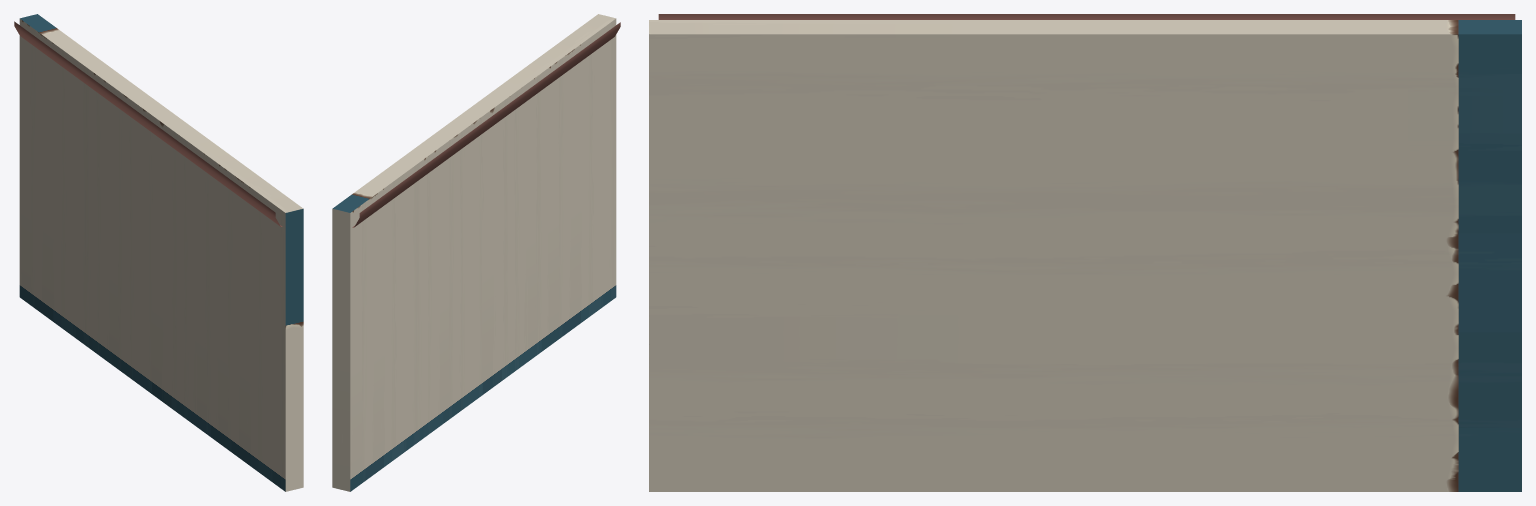
File: KitchenWall_Full.fbx
3 views of the same model, side by side, from view 1: azimuth 30°, elevation 25°; view 2: azimuth 150°, elevation 25°; view 3: azimuth 270°, elevation 25° (orthographic). The views are drawn at different scales.
Parts seen in each view (by area): view 1: Midnight_Antics_Bedroom (1).001; view 2: Midnight_Antics_Bedroom (1).001; view 3: Midnight_Antics_Bedroom (1).001.
Part boxes in pixels (x1,y1,x2,y2): Midnight_Antics_Bedroom (1).001: (14, 14, 303, 491); Midnight_Antics_Bedroom (1).001: (332, 14, 620, 491); Midnight_Antics_Bedroom (1).001: (649, 14, 1521, 491).
Size of the model in its own units: 2829 by 30025 by 51863.
